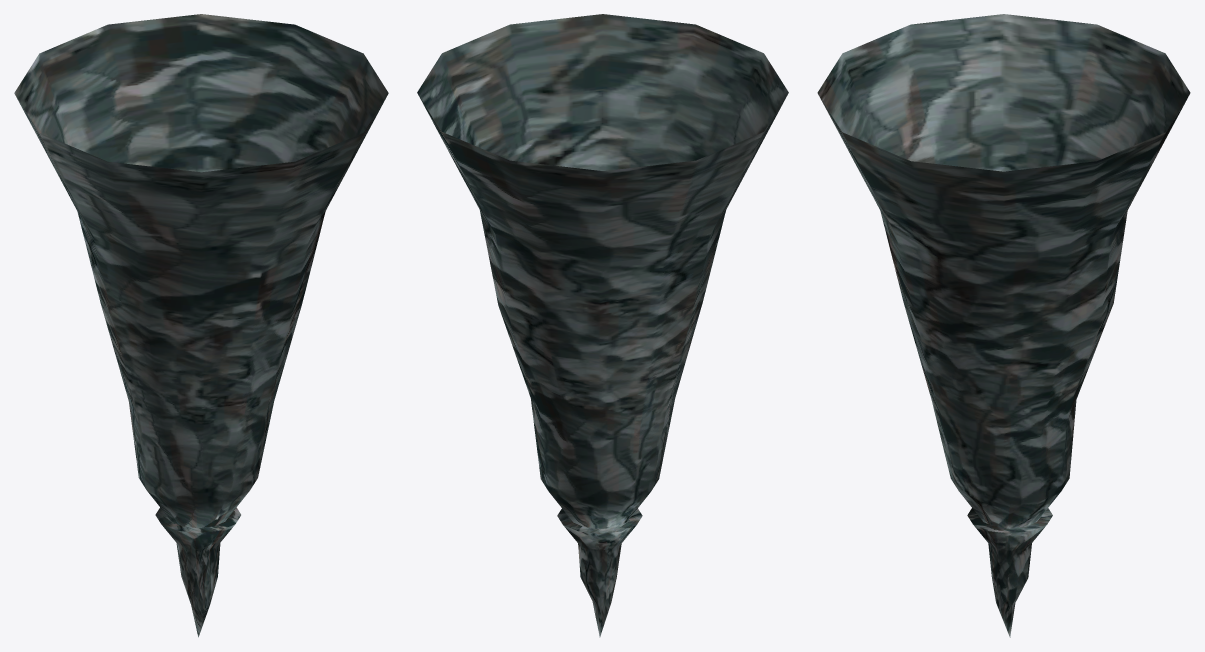
Rendered from INST_SM_STALAGC.fbx.
3 renders of one model, left to right at view 1: azimuth 30°, elevation 25°; view 2: azimuth 150°, elevation 25°; view 3: azimuth 270°, elevation 25°, orthographic.
Parts seen in each view (by area): view 1: INST_SM_STALAGC; view 2: INST_SM_STALAGC; view 3: INST_SM_STALAGC.
Boxes of the visible parts, <box> form: INST_SM_STALAGC: <box>14,14,388,637</box>; INST_SM_STALAGC: <box>417,14,788,637</box>; INST_SM_STALAGC: <box>817,14,1190,637</box>.
Bounding box in the file's own units: 51441 × 82913 × 51441.
Materials: 1 (1 with a texture image).
